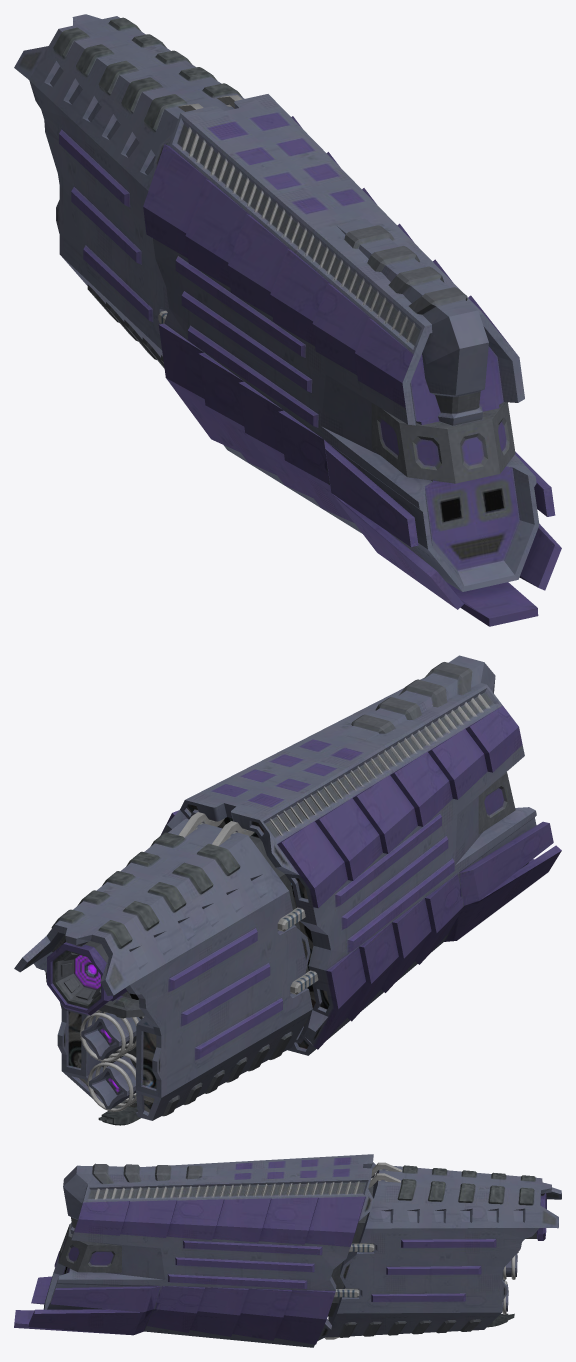
File: pythagoras.glb
The picture shows the model from 3 angles, top to bottom: view 1: azimuth 30°, elevation 25°; view 2: azimuth 150°, elevation 25°; view 3: azimuth 270°, elevation 25°; orthographic projection. The views are drawn at different scales.
Parts seen in each view (by area): view 1: MeshLP; view 2: MeshLP, Torus; view 3: MeshLP.
Boxes of the visible parts, x1,y1,x2,y2 form: MeshLP: (14,14,561,626); MeshLP: (14,655,561,1125); Torus: (80,1010,143,1111); MeshLP: (14,1154,561,1347).
Bounding box in the file's own units: 4.83 × 7.5 × 21.8.
2 materials, 2 textured.
